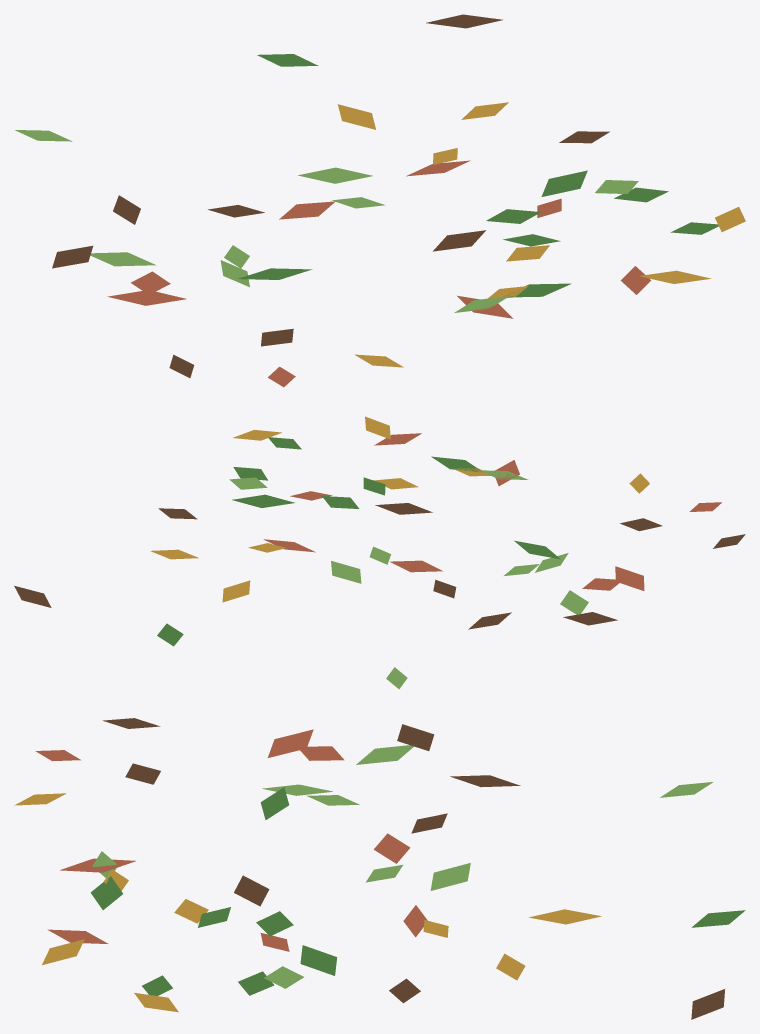
The model's file is leaf_litter.glb.
3 views of the same model, one above another, from view 1: azimuth 30°, elevation 25°; view 2: azimuth 150°, elevation 25°; view 3: azimuth 270°, elevation 25° (orthographic). The views are drawn at different scales.
Parts seen in each view (by area): view 1: Leaves; view 2: Leaves; view 3: Leaves.
Part boxes in pixels (left/top/right/bottom): Leaves: left=15, top=14, right=745, bottom=387; Leaves: left=14, top=416, right=745, bottom=689; Leaves: left=14, top=718, right=745, bottom=1019.
Size of the model in its own units: 2.07 by 0.004 by 2.11.
Materials: 1 (1 with a texture image).
